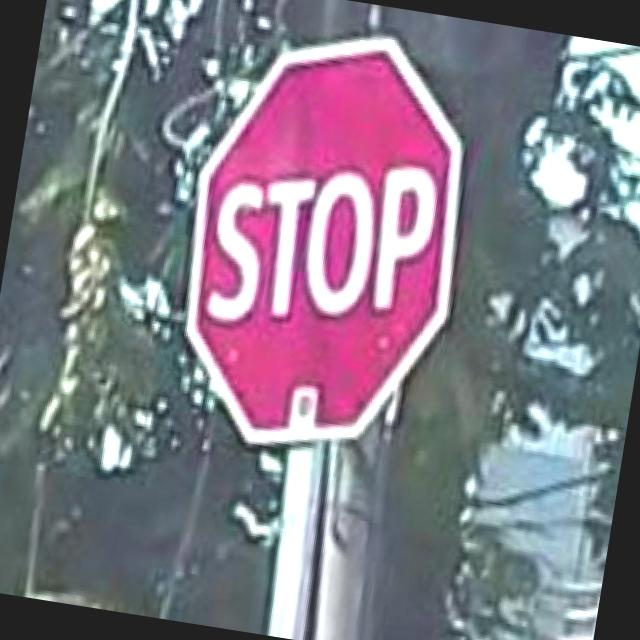Stop: (163, 28, 480, 450)
